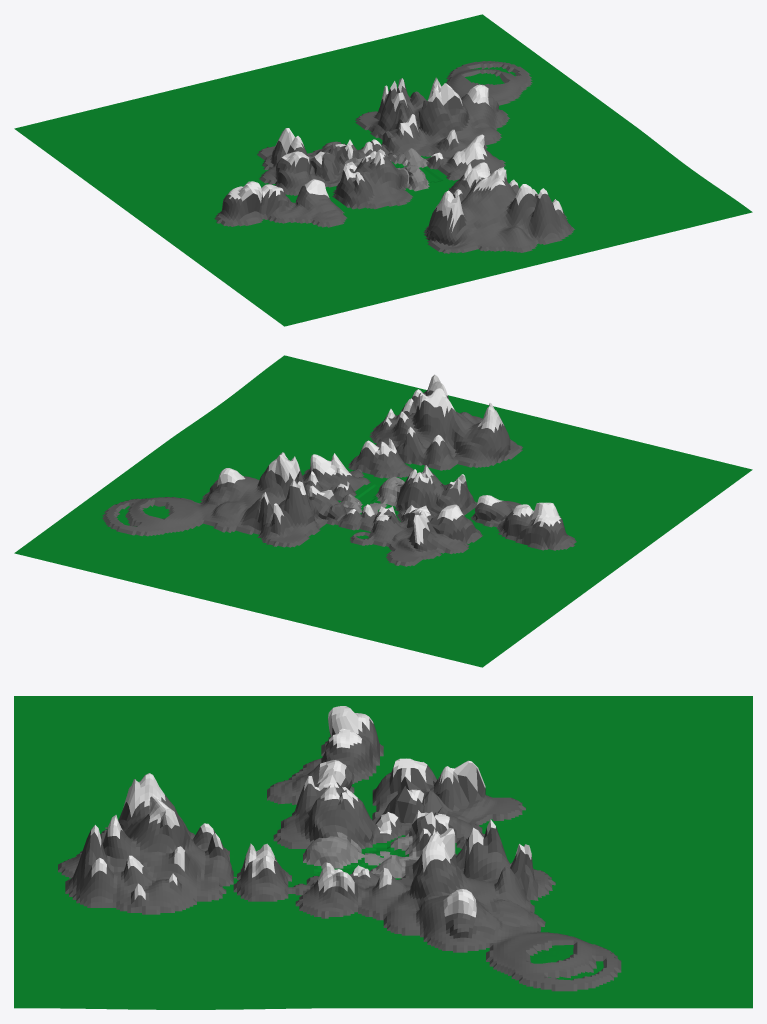
File: newTerrain.fbx
3 views of the same model, one above another, from view 1: azimuth 30°, elevation 25°; view 2: azimuth 150°, elevation 25°; view 3: azimuth 270°, elevation 25° (orthographic). The views are drawn at different scales.
Parts seen in each view (by area): view 1: Plane.002; view 2: Plane.002; view 3: Plane.002.
Part boxes in pixels (x1,y1,x2,y2): Plane.002: (14,14,752,326); Plane.002: (14,355,752,667); Plane.002: (14,696,752,1009).
Size of the model in its own units: 600 by 77.85 by 600.
